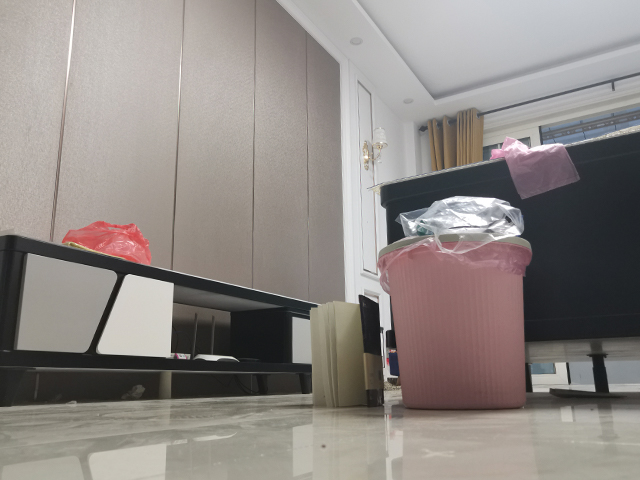book: (307, 292, 384, 410)
cabinet: (1, 230, 322, 409)
table: (365, 121, 640, 399)
trashcan: (377, 231, 533, 412)
